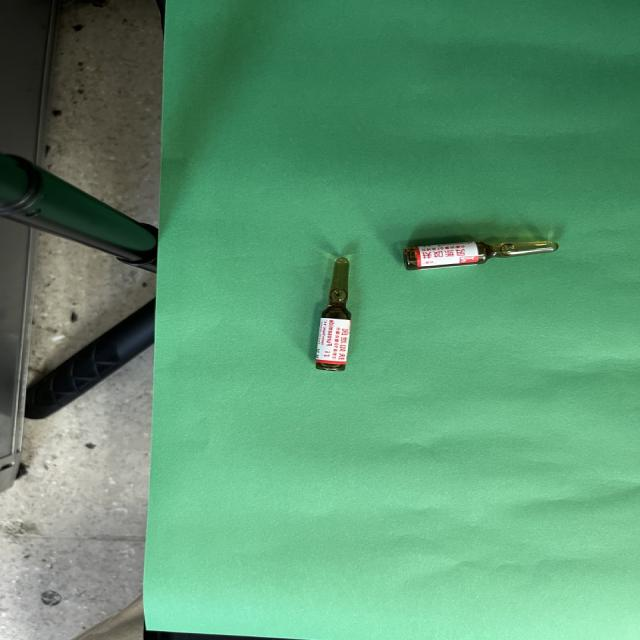Ampoules: (403, 240, 561, 270), (316, 256, 353, 372)
